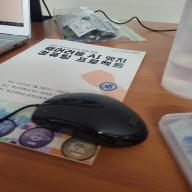mouse: (30, 90, 151, 151)
